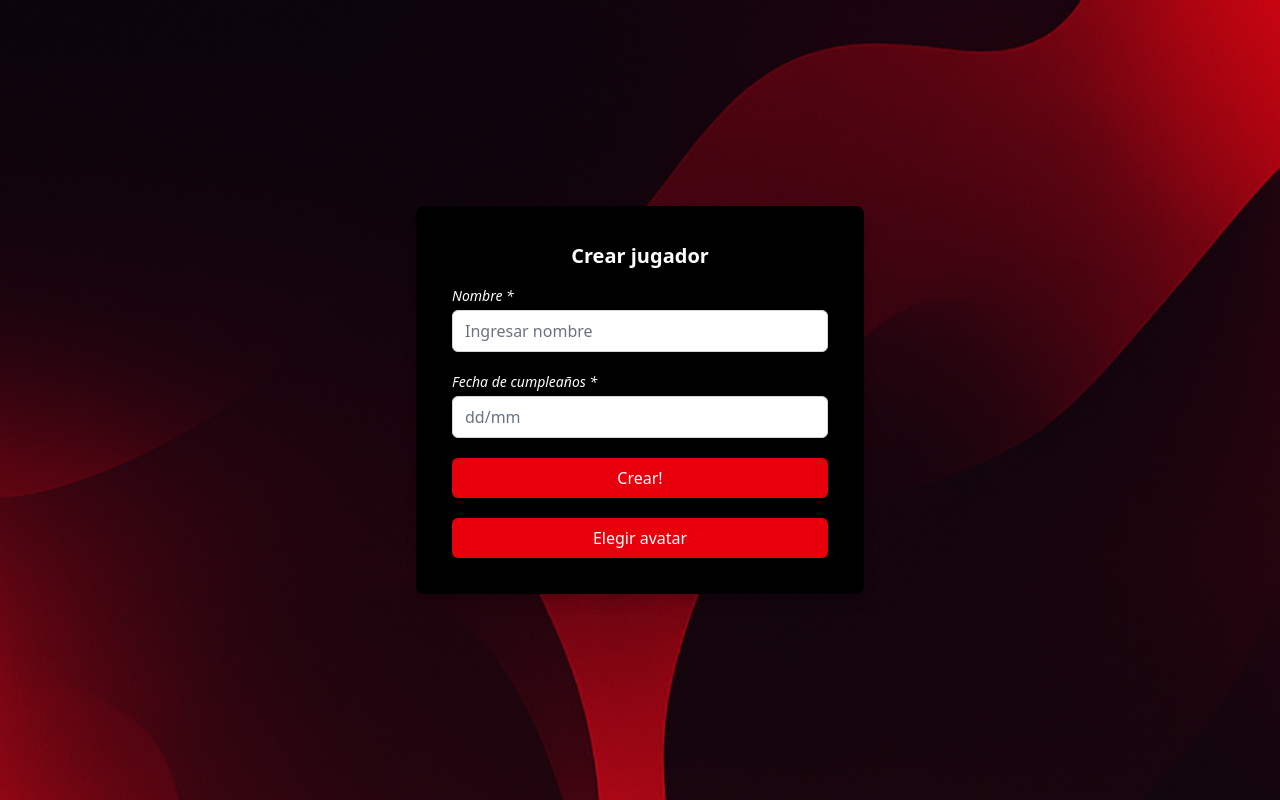
Test: PlayerForm › Ingreso de datos › Se lanza el error correspondiente si se ingresa un nombre con numeros
Type "Juanceto01" into the field labelled "Nombre *" at (640, 331), box [452,310,828,352]
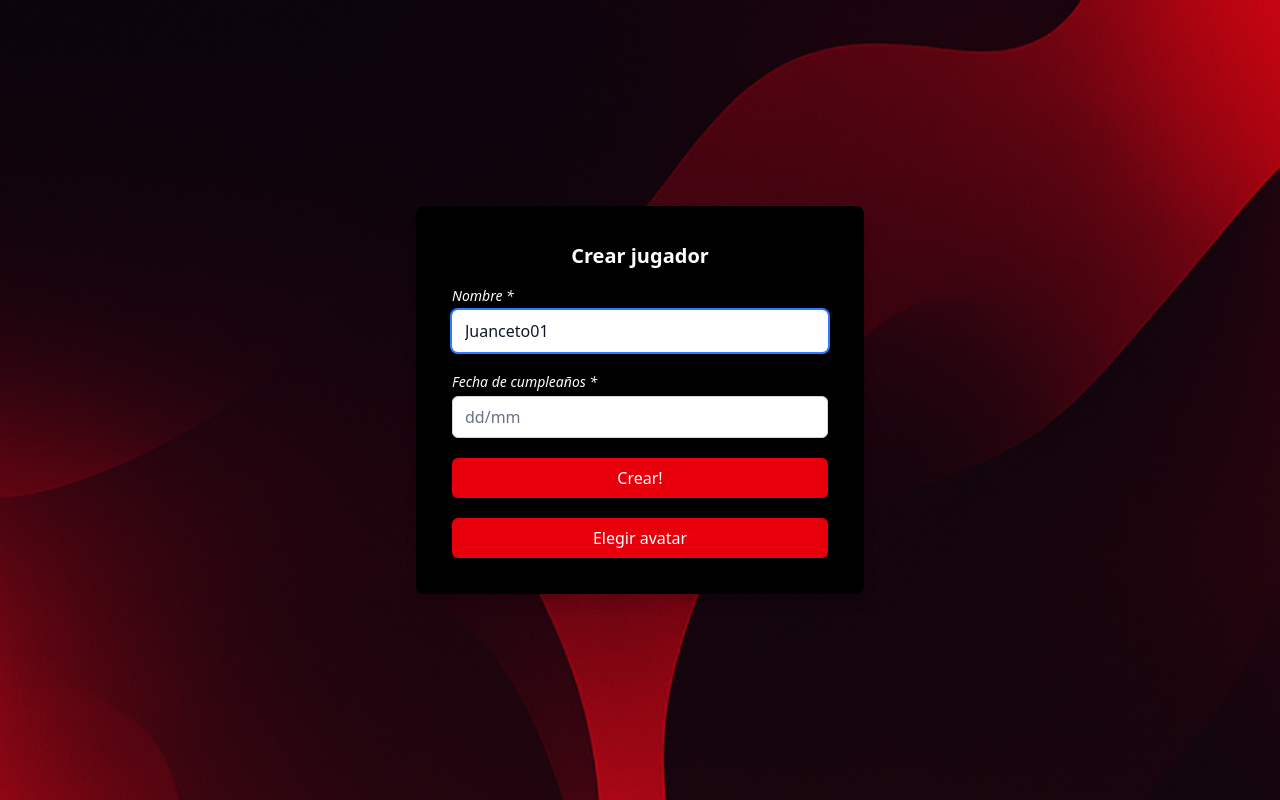
Click the button "Crear!" at (640, 478), box [452,458,828,498]
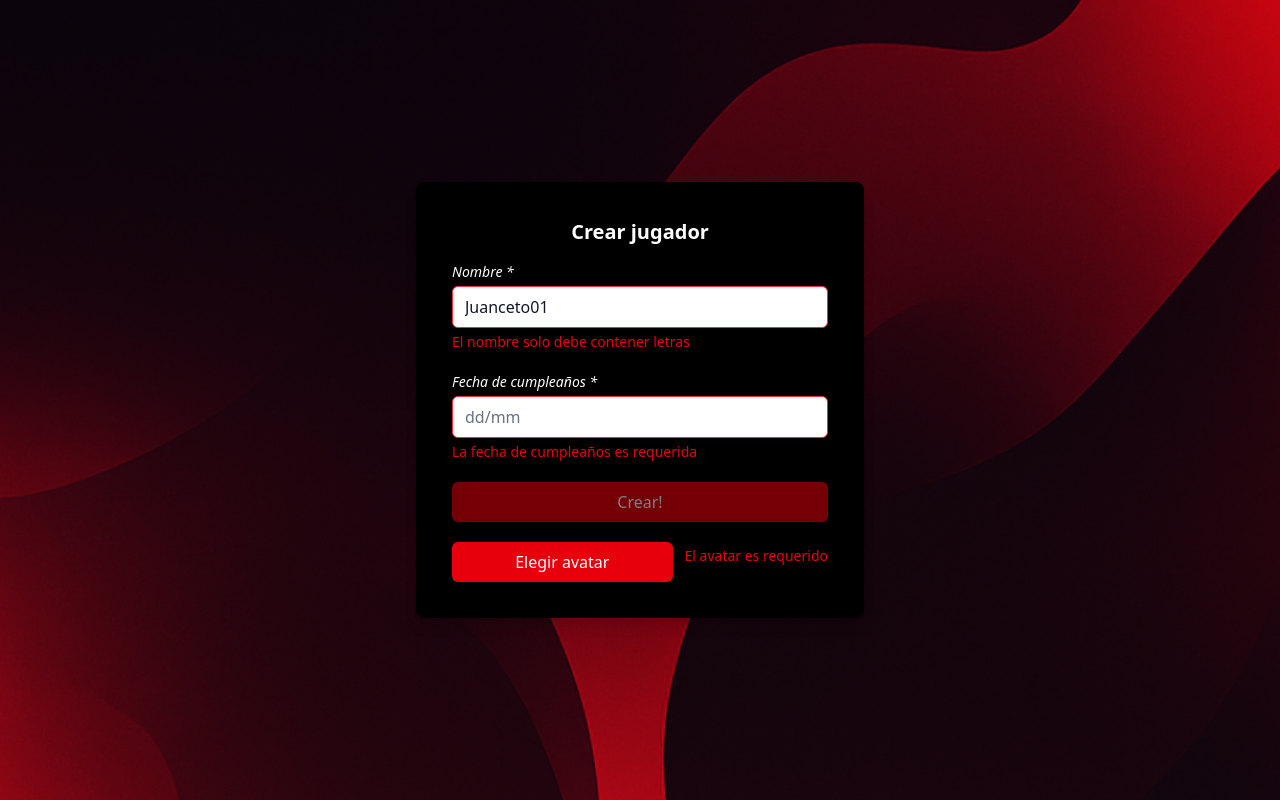
Check: the text "El nombre solo debe contener letras" is shown, box [452,332,690,351]
